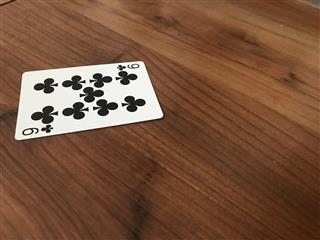NineOfClubs: (13, 59, 163, 139)
